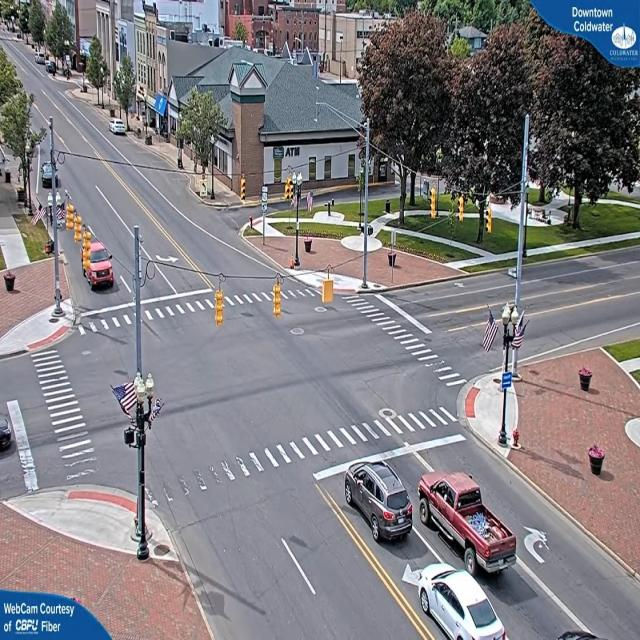car: (417, 470, 515, 552), (346, 459, 414, 542), (82, 242, 116, 291), (111, 120, 128, 136)
